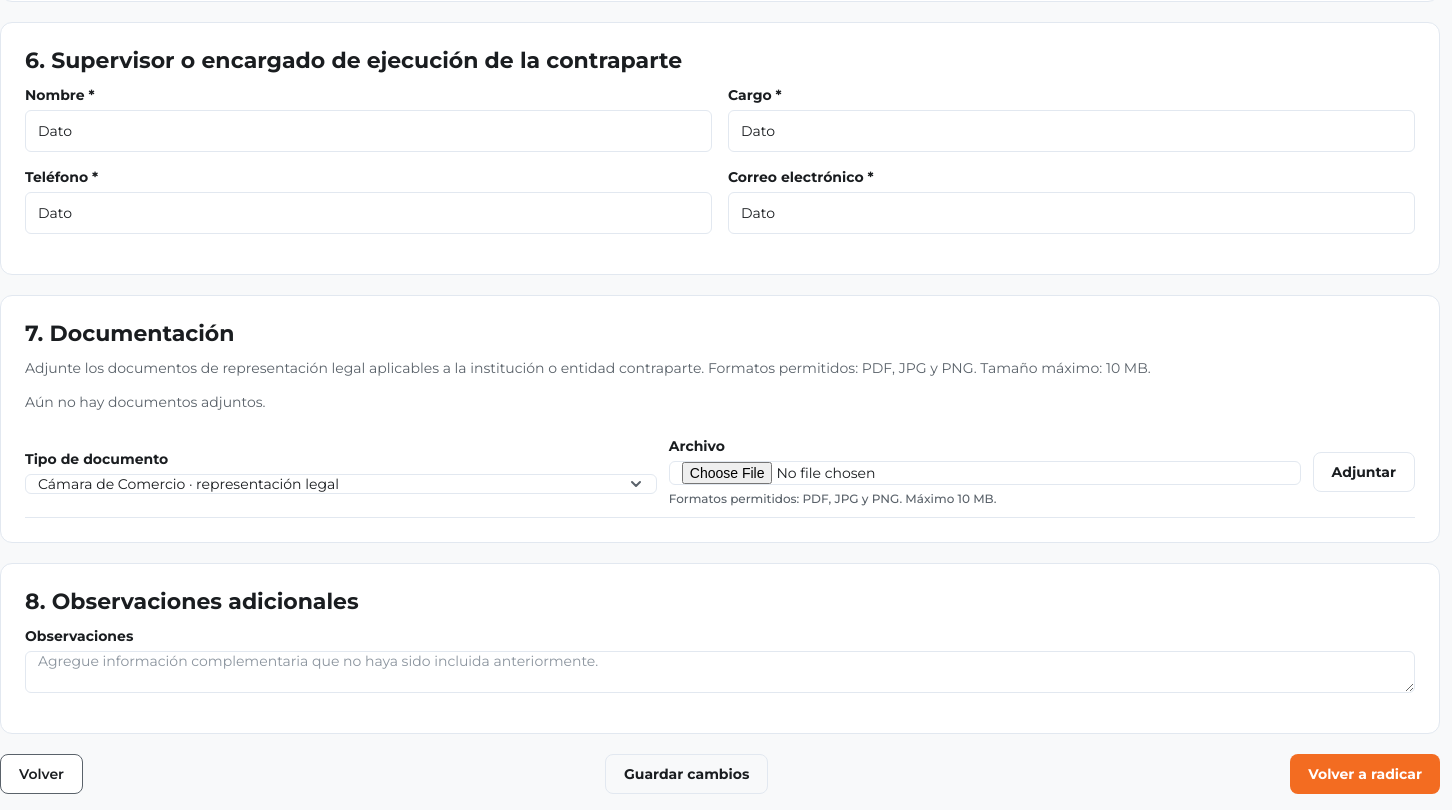
Test: país persistido con catálogo asíncrono › DEVUELTA conserva Alemania y radica sin reseleccionarla cuando llega primero solicitud
(page scrolled)
Replace the text in the text box labelled "Observaciones" with "Ajuste del solicitante" at (720, 672), box [25,651,1415,693]
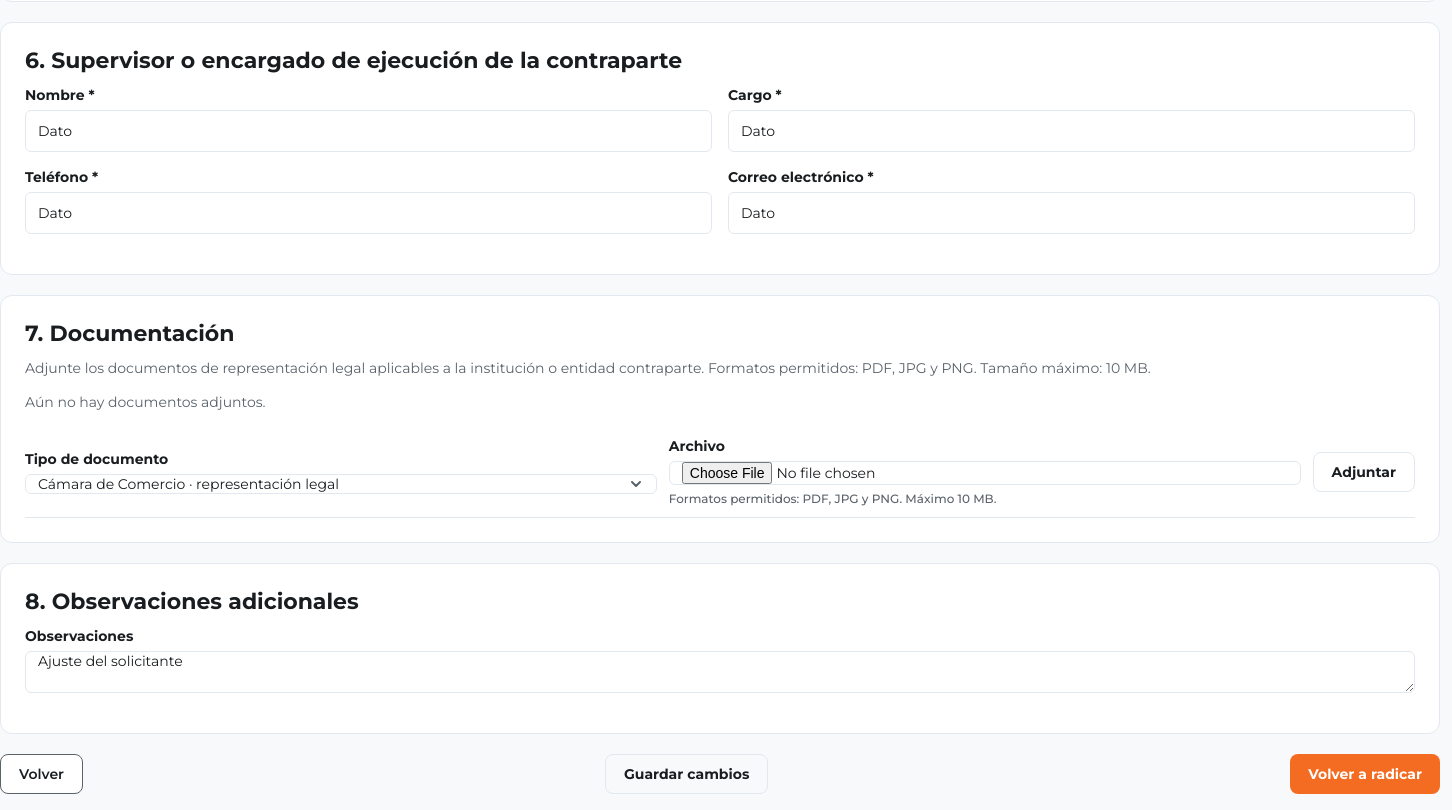
Click the button "Volver a radicar" at (1365, 774), box [1290,754,1440,794]
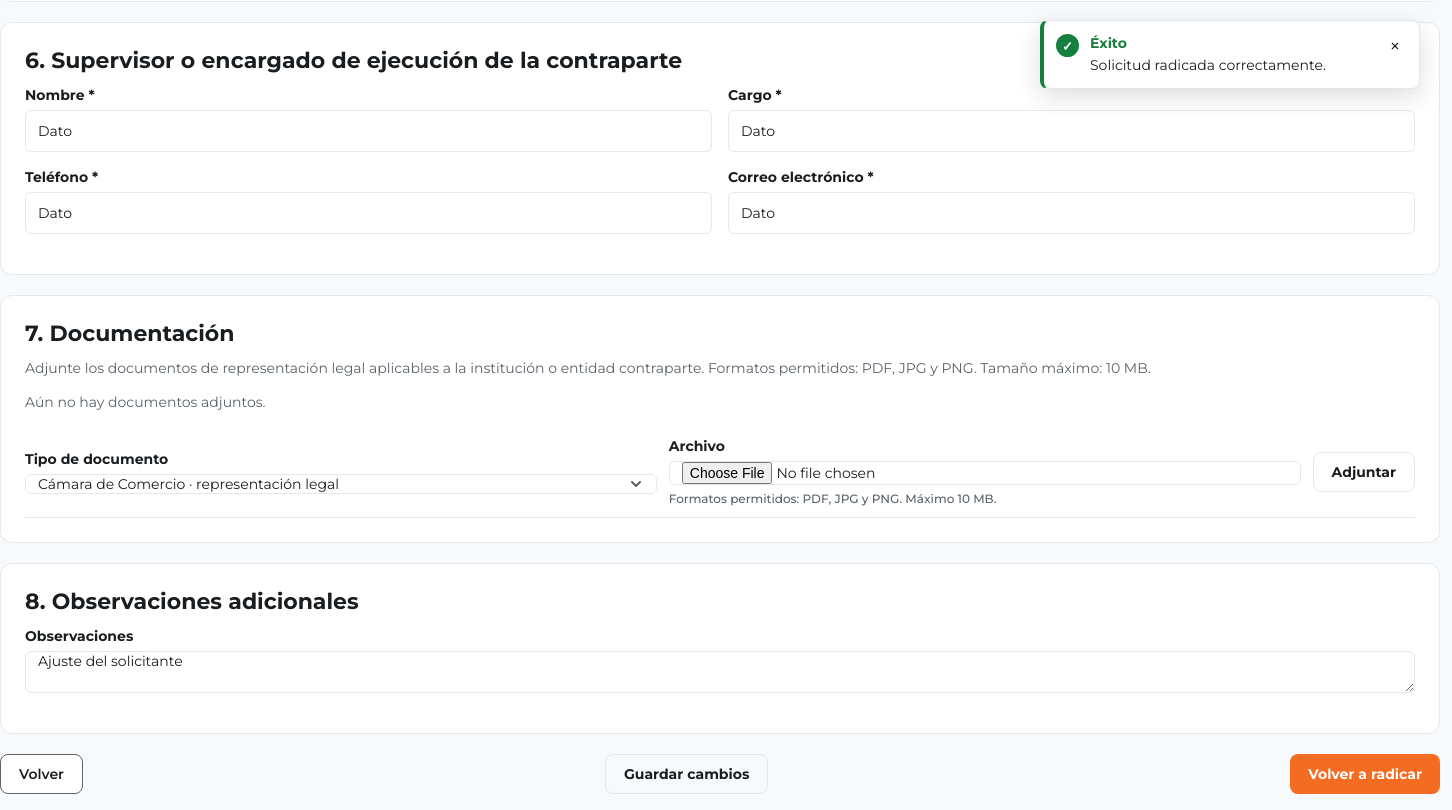
Expected: the text "Solicitud radicada correctamente." is shown, [1090,56,1326,74]
